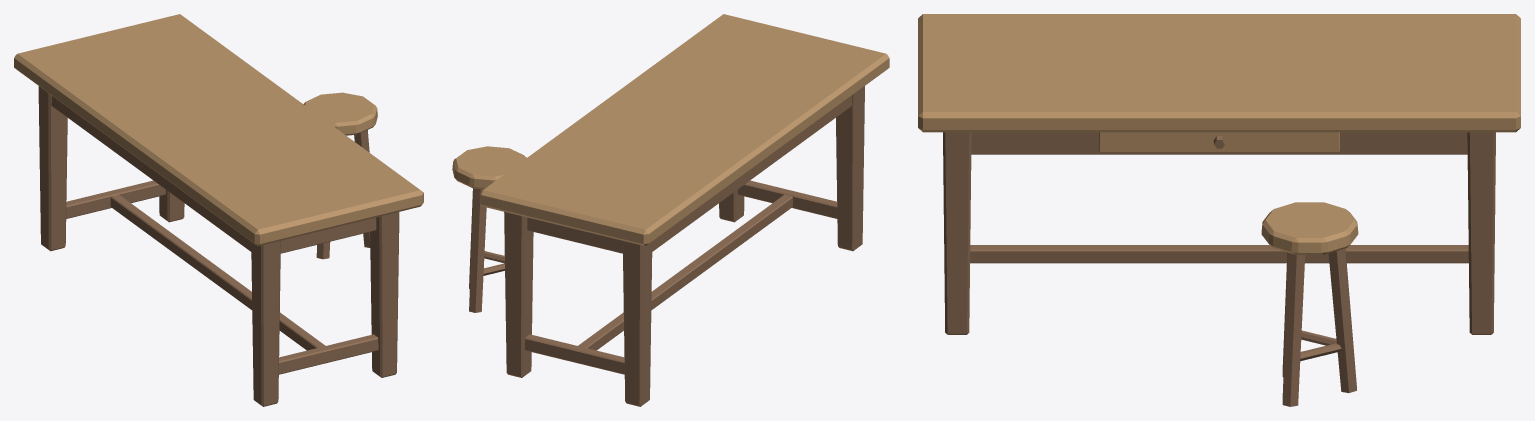
3 views of the same model, side by side, from view 1: azimuth 30°, elevation 25°; view 2: azimuth 150°, elevation 25°; view 3: azimuth 270°, elevation 25° (orthographic). The views are drawn at different scales.
Parts seen in each view (by area): view 1: C07_desk, C07_stool; view 2: C07_desk, C07_stool; view 3: C07_desk, C07_stool.
Boxes of the visible parts, x1,y1,x2,y2 form: C07_desk: (14, 14, 423, 406); C07_stool: (303, 92, 377, 259); C07_desk: (479, 14, 889, 406); C07_stool: (452, 146, 526, 312); C07_desk: (918, 14, 1520, 334); C07_stool: (1261, 202, 1358, 406).
Bounding box in the file's own units: 1.3 × 0.852 × 2.
